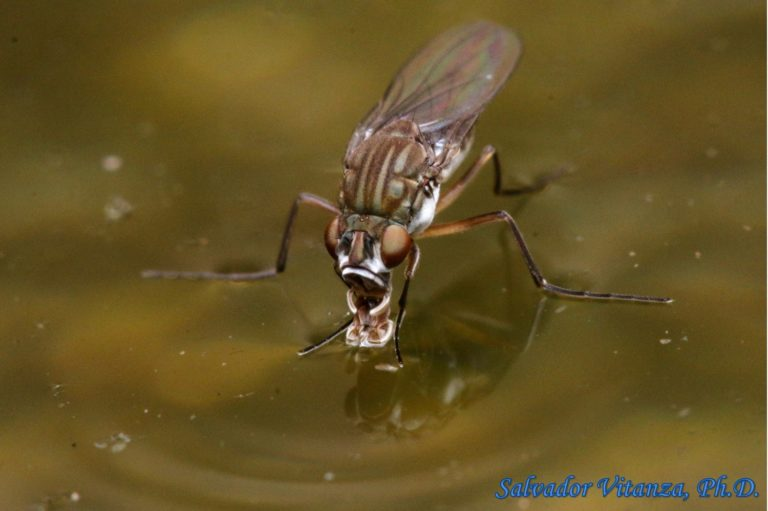Ephydridae: (137, 13, 676, 372)
